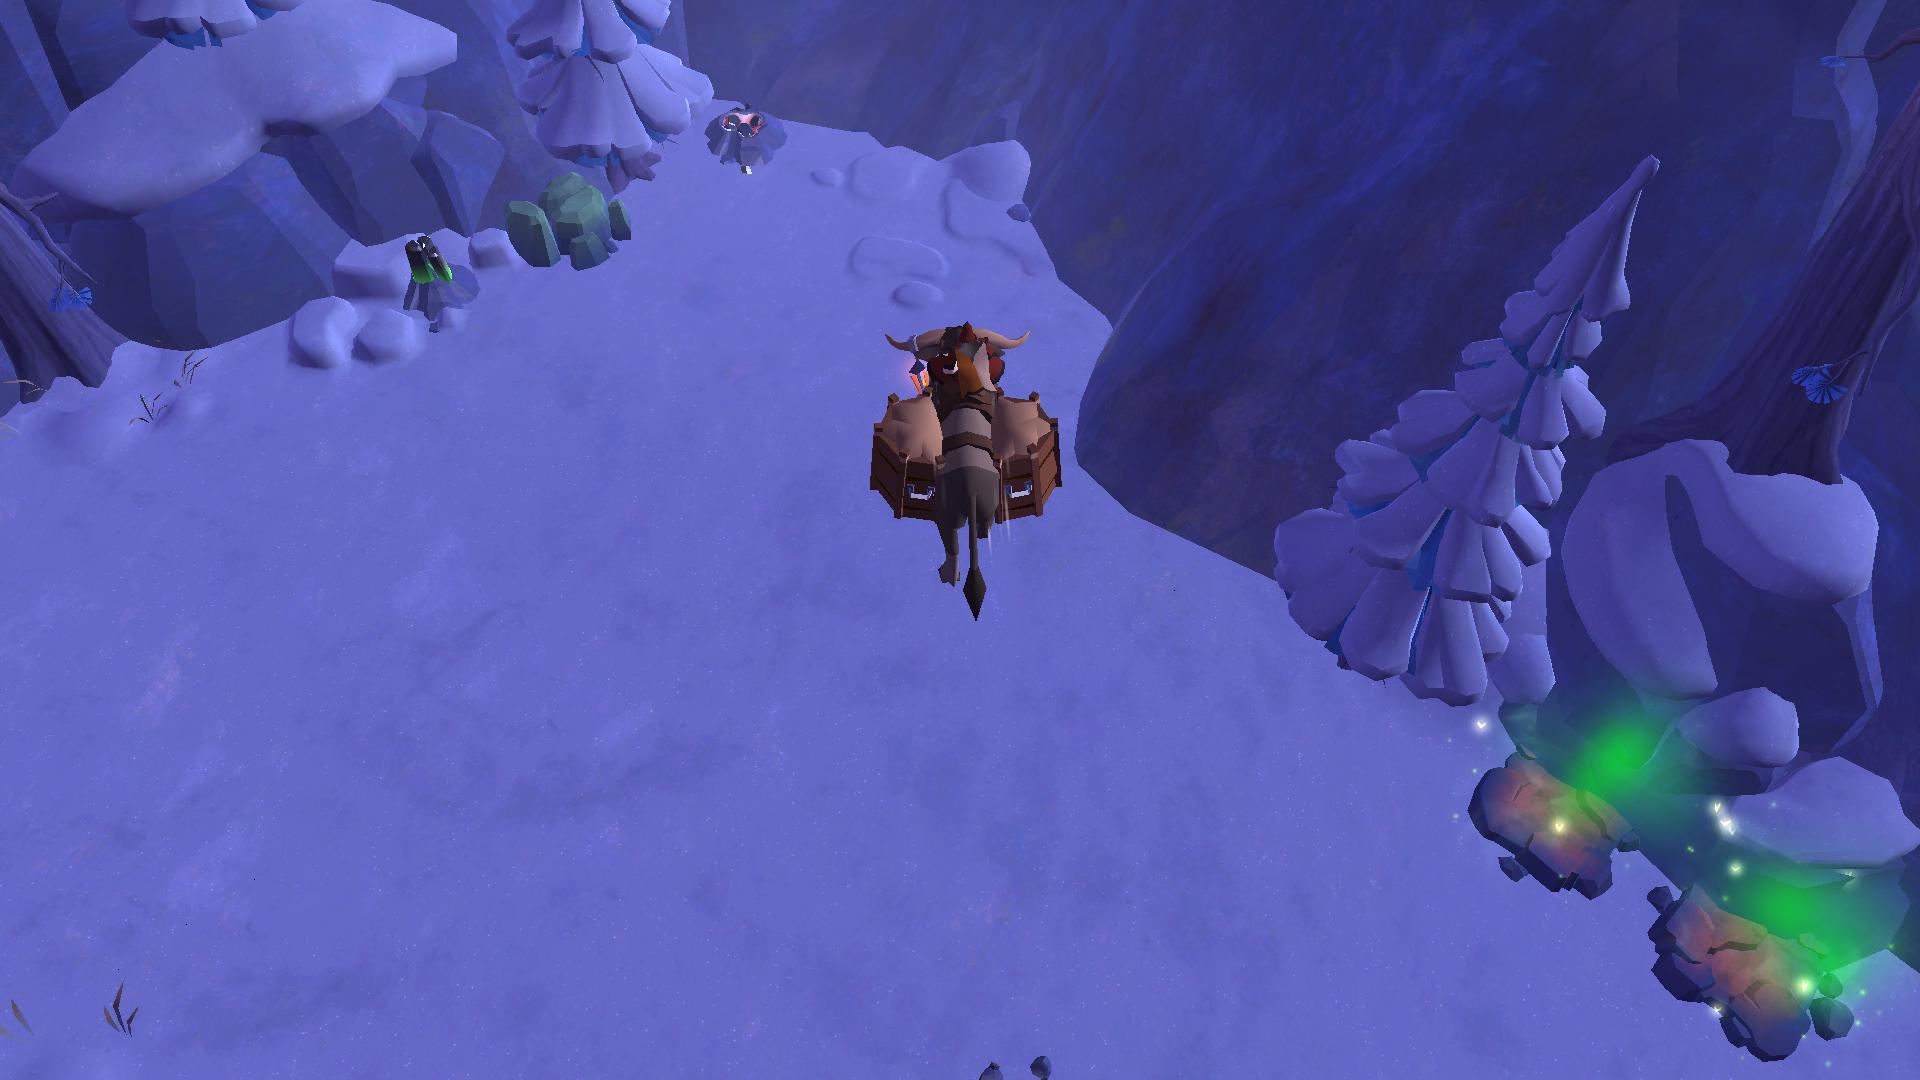ore_t3: (402, 235, 451, 291)
rock_t3: (483, 162, 645, 280)
